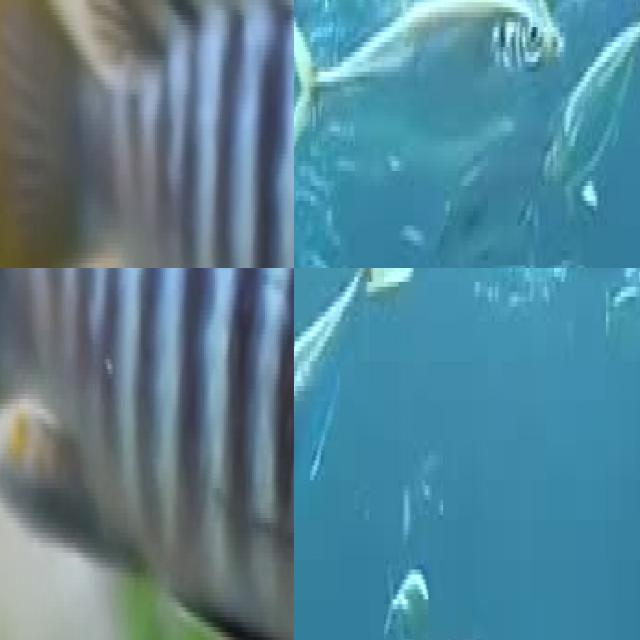fish: (0, 0, 294, 268), (294, 0, 556, 161)
